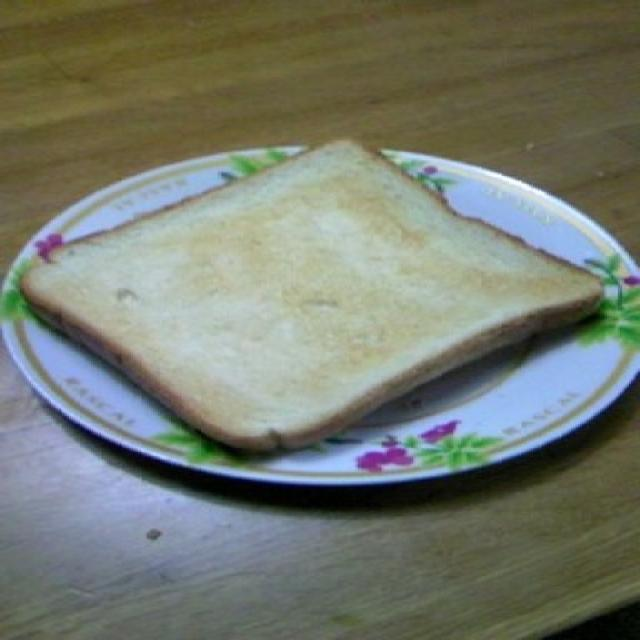面包点心: (0, 130, 640, 490)
